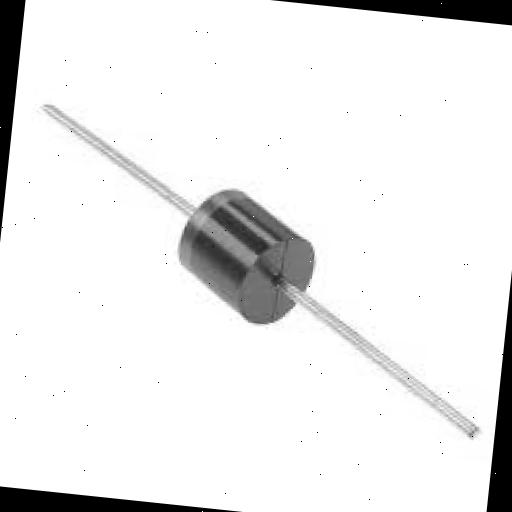DIODE: (7, 99, 511, 441)
